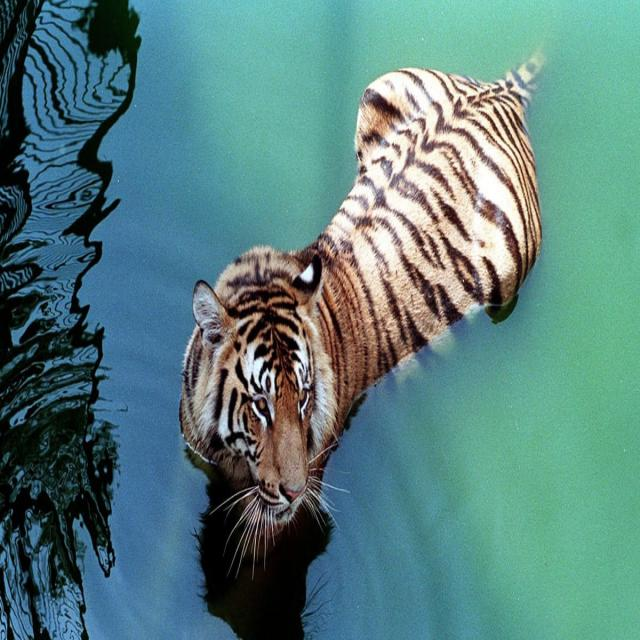tiger: (179, 62, 541, 568)
